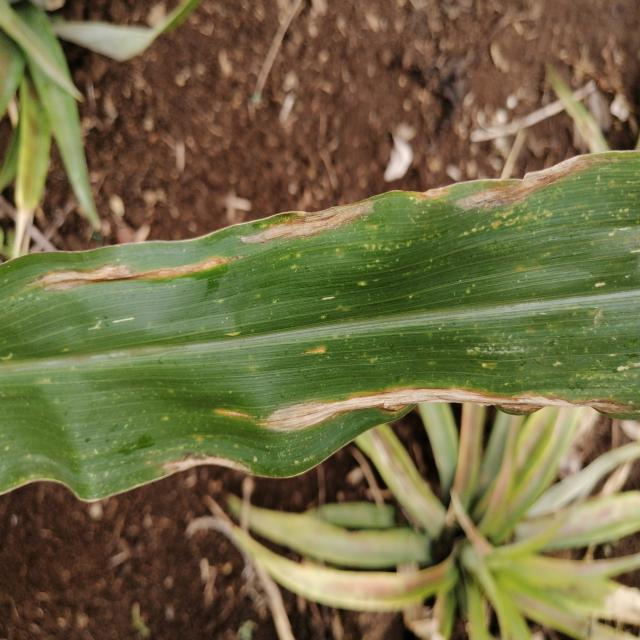Corn_Leaf_Blight: (0, 145, 640, 491)
